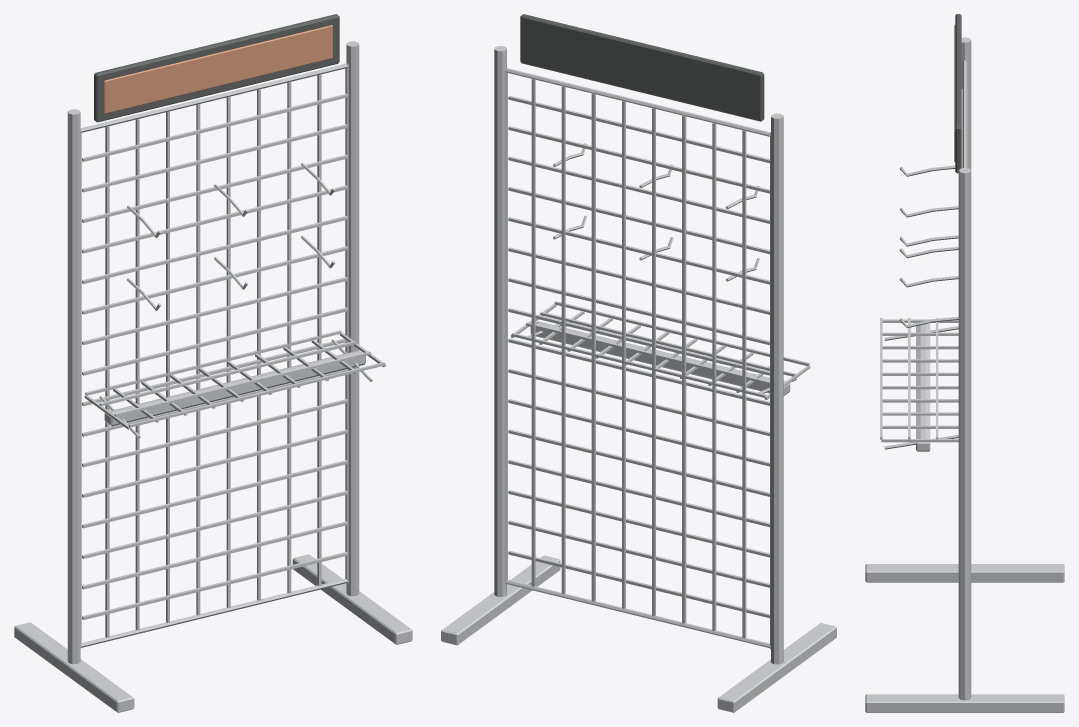
Rendered from garden-centre-and-florist-mesh-display-bay-049b215d__17725.glb.
The picture shows the model from 3 angles, left to right: view 1: azimuth 30°, elevation 25°; view 2: azimuth 150°, elevation 25°; view 3: azimuth 270°, elevation 25°; orthographic projection. The views are drawn at different scales.
Visible parts, largest first — view 1: mesh-display-bay; view 2: mesh-display-bay; view 3: mesh-display-bay.
Part boxes in pixels (bbox=[...]): mesh-display-bay: bbox=[14, 14, 412, 712]; mesh-display-bay: bbox=[441, 14, 836, 712]; mesh-display-bay: bbox=[865, 14, 1064, 712].
Bounding box in the file's own units: 1.02 × 1.97 × 0.62.
